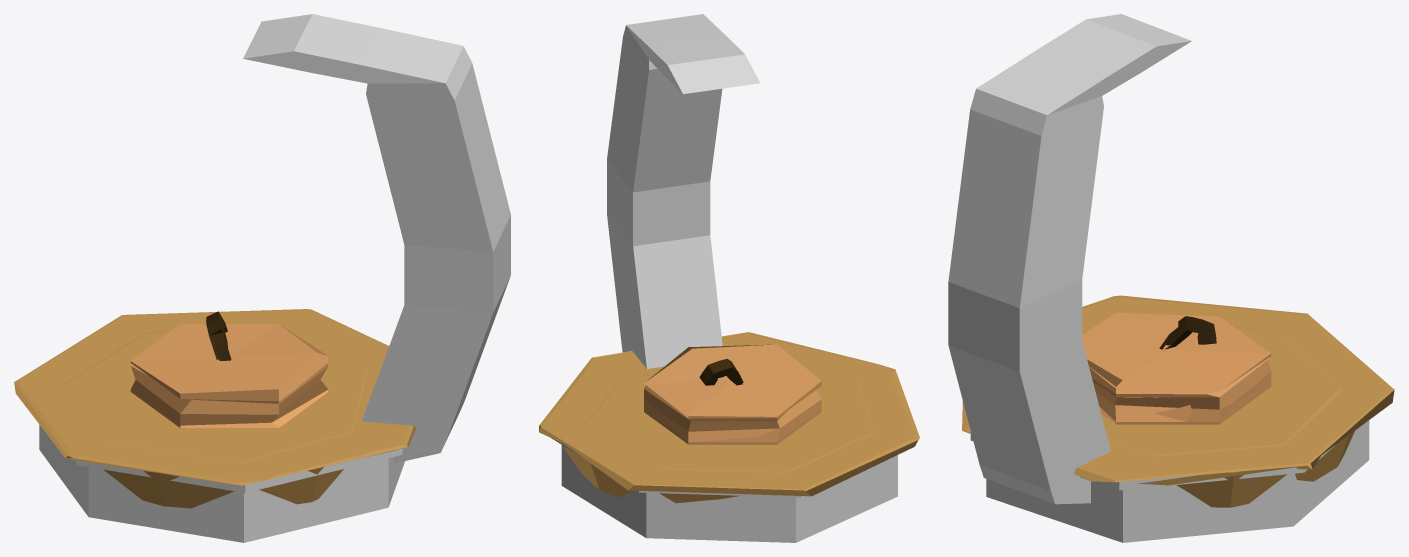
File: RemadeCandleMelted(C).fbx
3 views of the same model, side by side, from view 1: azimuth 30°, elevation 25°; view 2: azimuth 150°, elevation 25°; view 3: azimuth 270°, elevation 25° (orthographic). The views are drawn at different scales.
Visible parts, largest first — view 1: Handle, Melted wax Base, Wax overflow, Candle Remade, Dish, Wick; view 2: Handle, Melted wax Base, Wax overflow, Candle Remade, Dish, Wick; view 3: Handle, Melted wax Base, Candle Remade, Dish, Wax overflow, Wick.
Boxes of the visible parts, x1=… form: Handle: x1=243, y1=14, x2=510, y2=463; Melted wax Base: x1=14, y1=309, x2=416, y2=485; Wax overflow: x1=64, y1=326, x2=368, y2=508; Candle Remade: x1=130, y1=324, x2=328, y2=427; Dish: x1=39, y1=425, x2=404, y2=542; Wick: x1=206, y1=311, x2=231, y2=360; Handle: x1=607, y1=14, x2=760, y2=368; Melted wax Base: x1=539, y1=332, x2=919, y2=496; Wax overflow: x1=564, y1=368, x2=875, y2=503; Candle Remade: x1=644, y1=344, x2=821, y2=444; Dish: x1=551, y1=438, x2=897, y2=542; Wick: x1=699, y1=358, x2=743, y2=385; Handle: x1=948, y1=14, x2=1191, y2=504; Melted wax Base: x1=962, y1=295, x2=1394, y2=485; Candle Remade: x1=1082, y1=312, x2=1271, y2=424; Dish: x1=970, y1=420, x2=1369, y2=542; Wax overflow: x1=1082, y1=326, x2=1354, y2=507; Wick: x1=1159, y1=316, x2=1216, y2=349.
Size of the model in its own units: 237 by 248 by 221.
